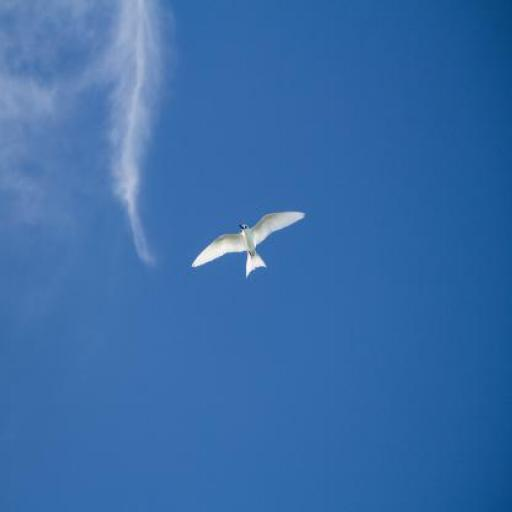bird: (192, 211, 306, 277)
